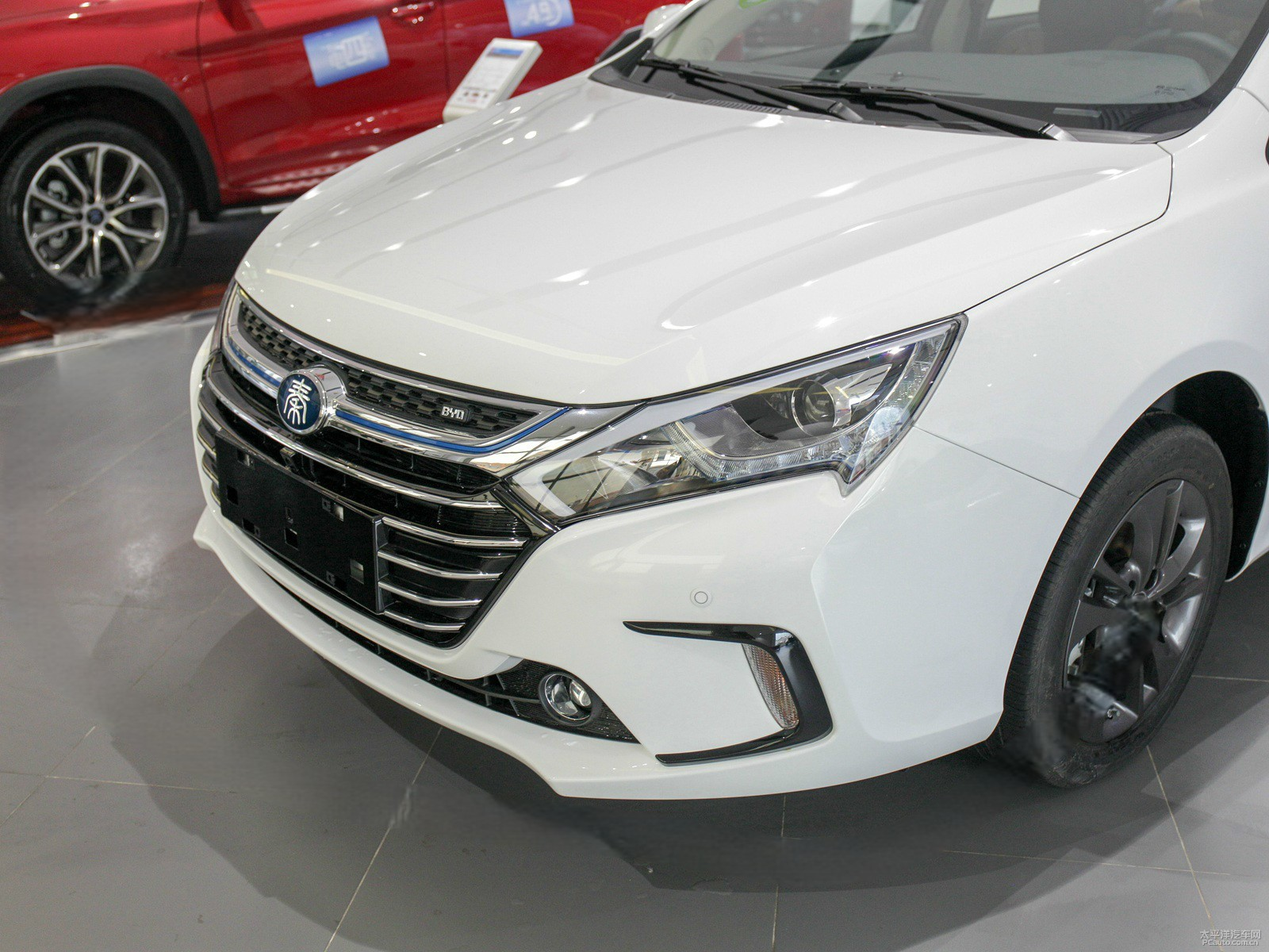BYD Qin: (277, 371, 325, 435)
